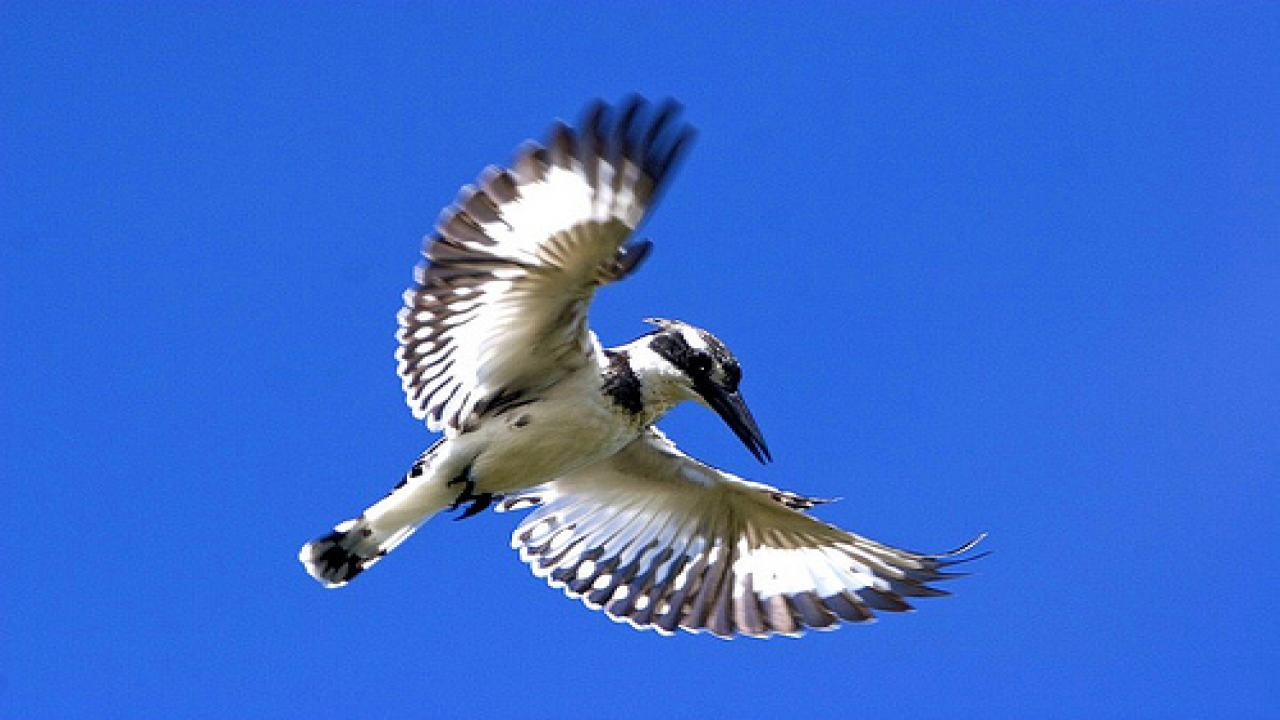Bird: (291, 83, 1006, 648)
